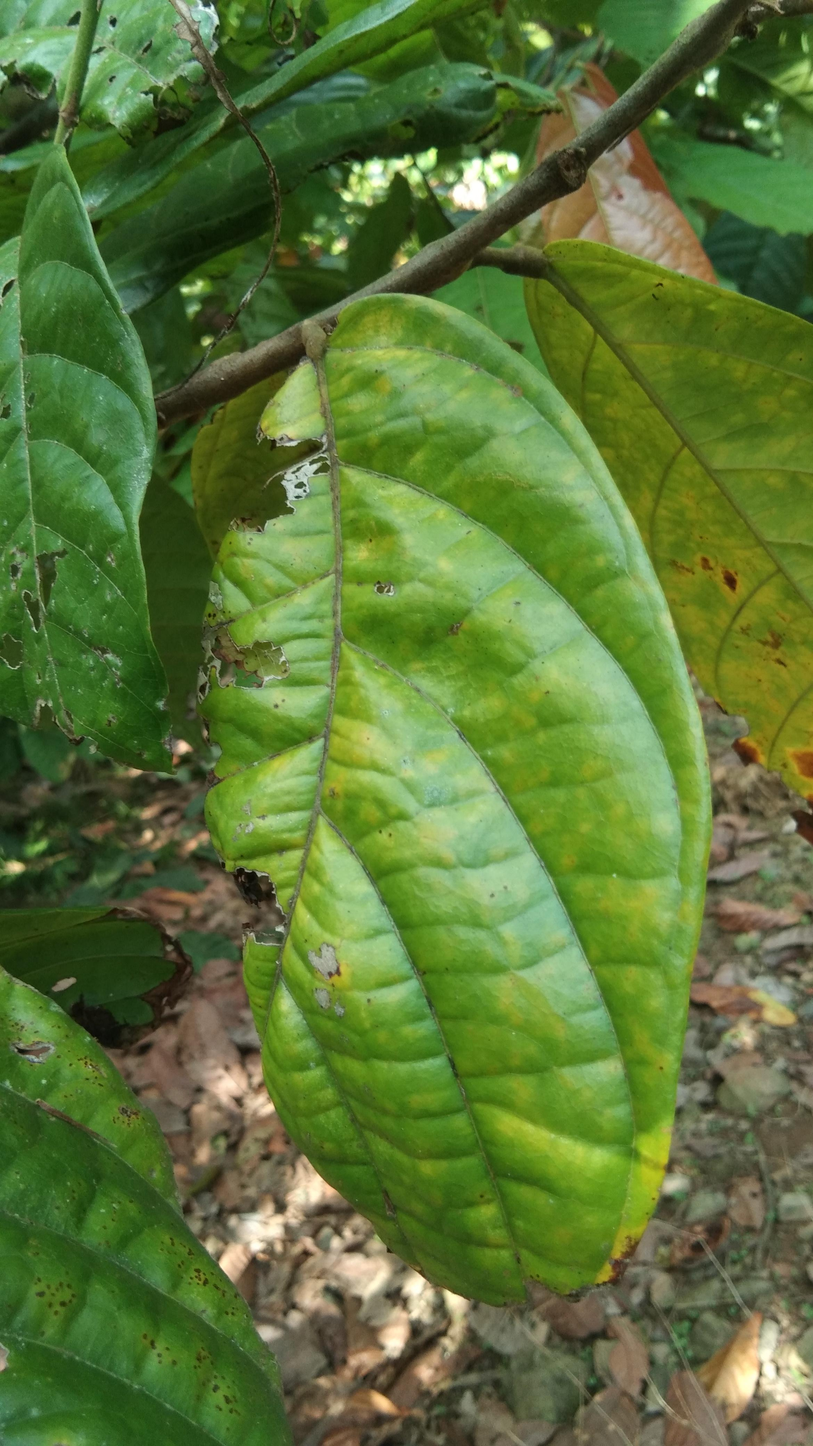deficiencia_potasio: (170, 261, 719, 1331)
